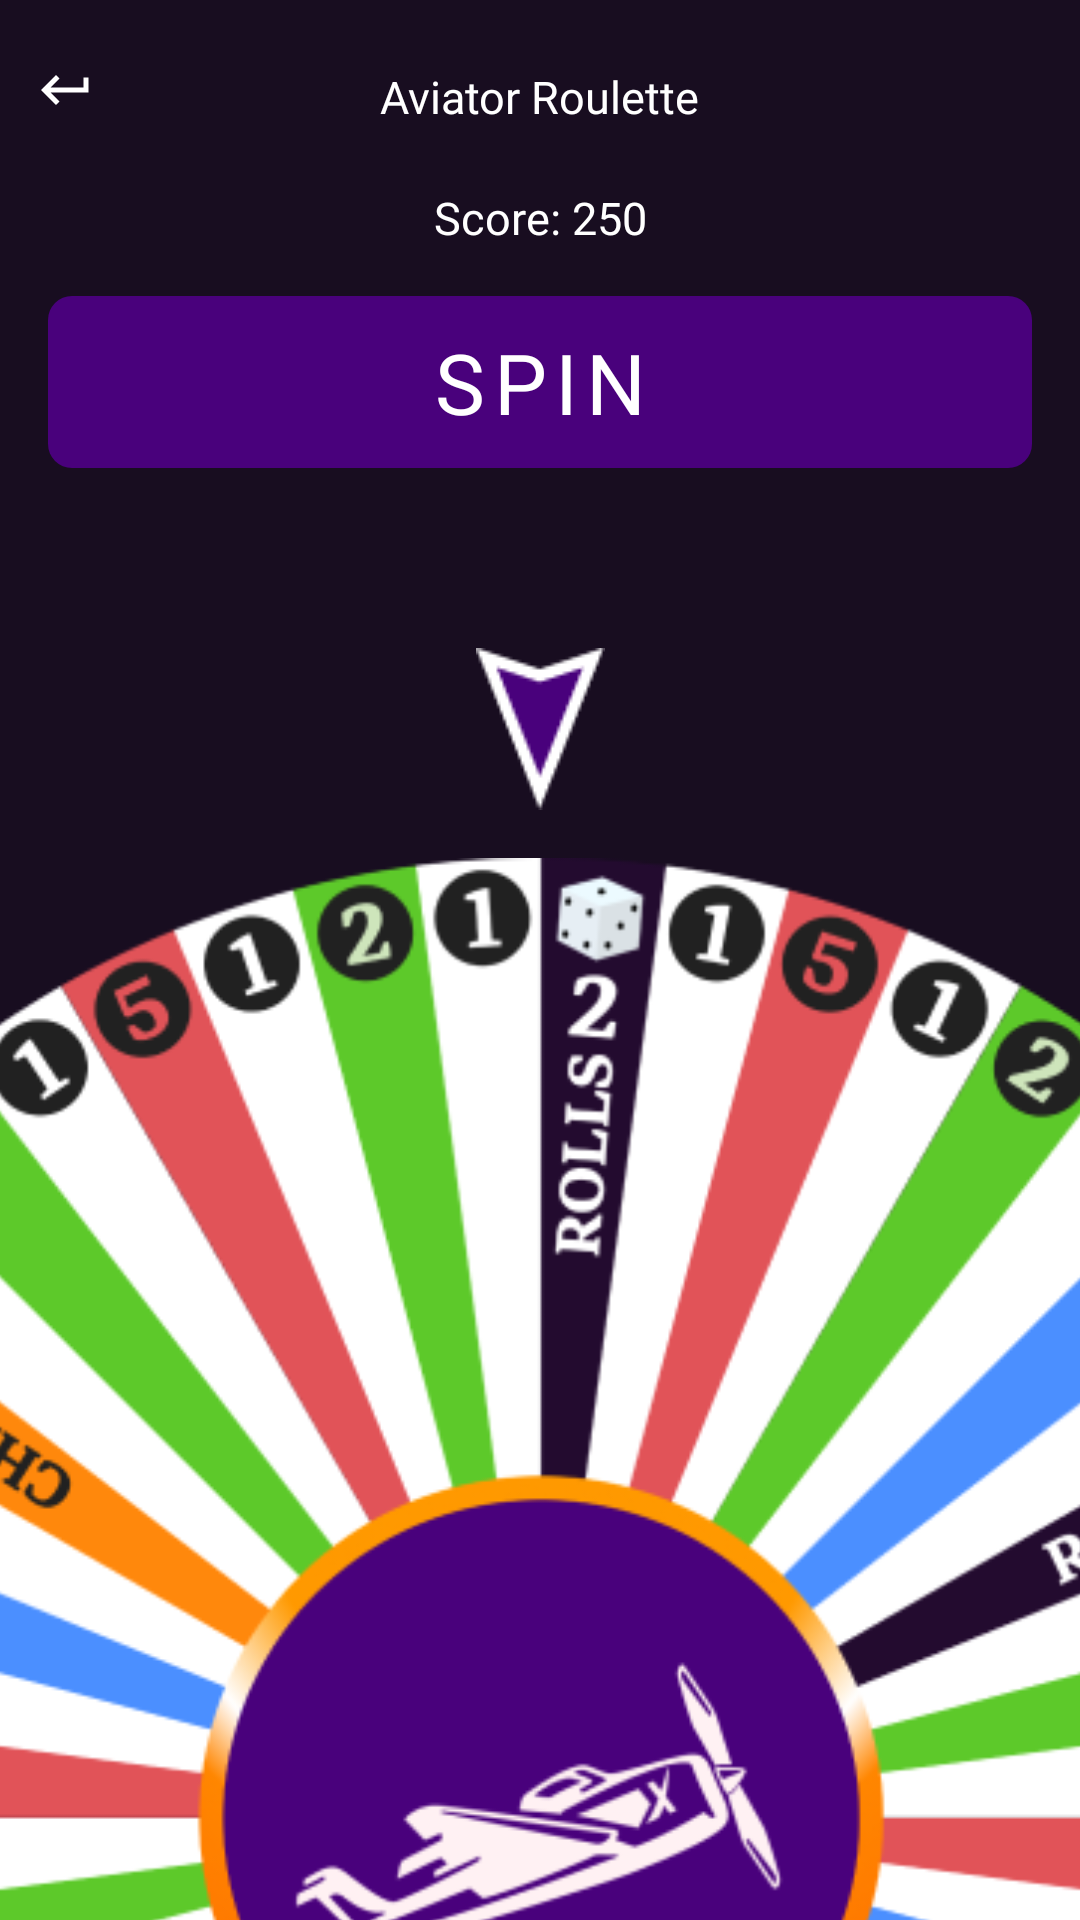

Point at icon controls on the screen. Image size 1080px×1920px, points as (x,y).
marker: (540,729)
return: (65,90)
